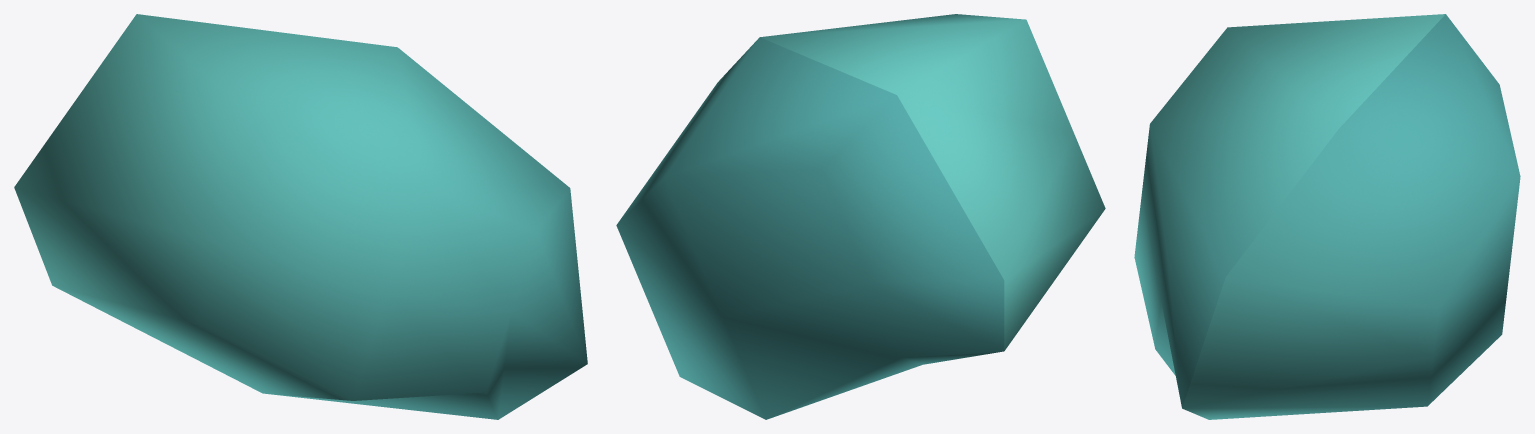
File: rock_small.fbx
3 views of the same model, side by side, from view 1: azimuth 30°, elevation 25°; view 2: azimuth 150°, elevation 25°; view 3: azimuth 270°, elevation 25° (orthographic). The views are drawn at different scales.
Parts seen in each view (by area): view 1: Cube.004; view 2: Cube.004; view 3: Cube.004.
Boxes of the visible parts, x1,y1,x2,y2 form: Cube.004: [14, 14, 587, 419]; Cube.004: [616, 14, 1105, 419]; Cube.004: [1134, 14, 1520, 419].
Size of the model in its own units: 29.6 by 24.22 by 27.22.
